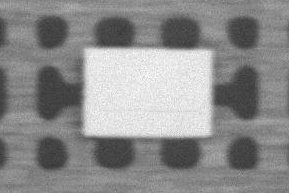DIE_CRACK: (101, 106, 196, 115)
